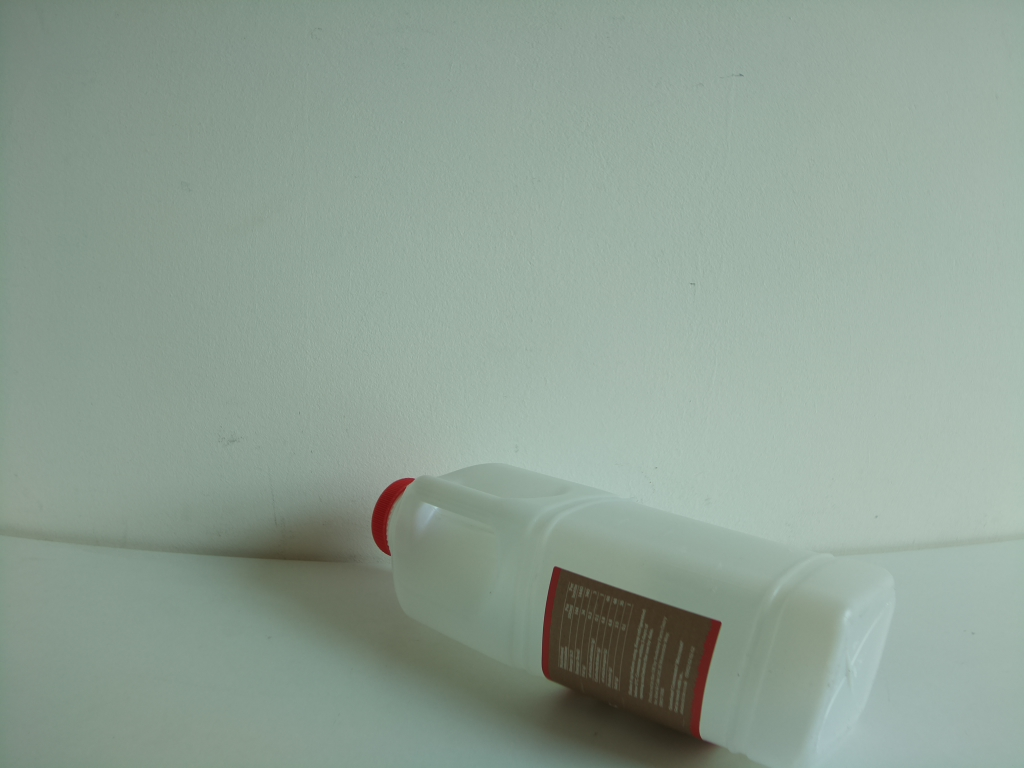milk: (368, 459, 894, 768)
